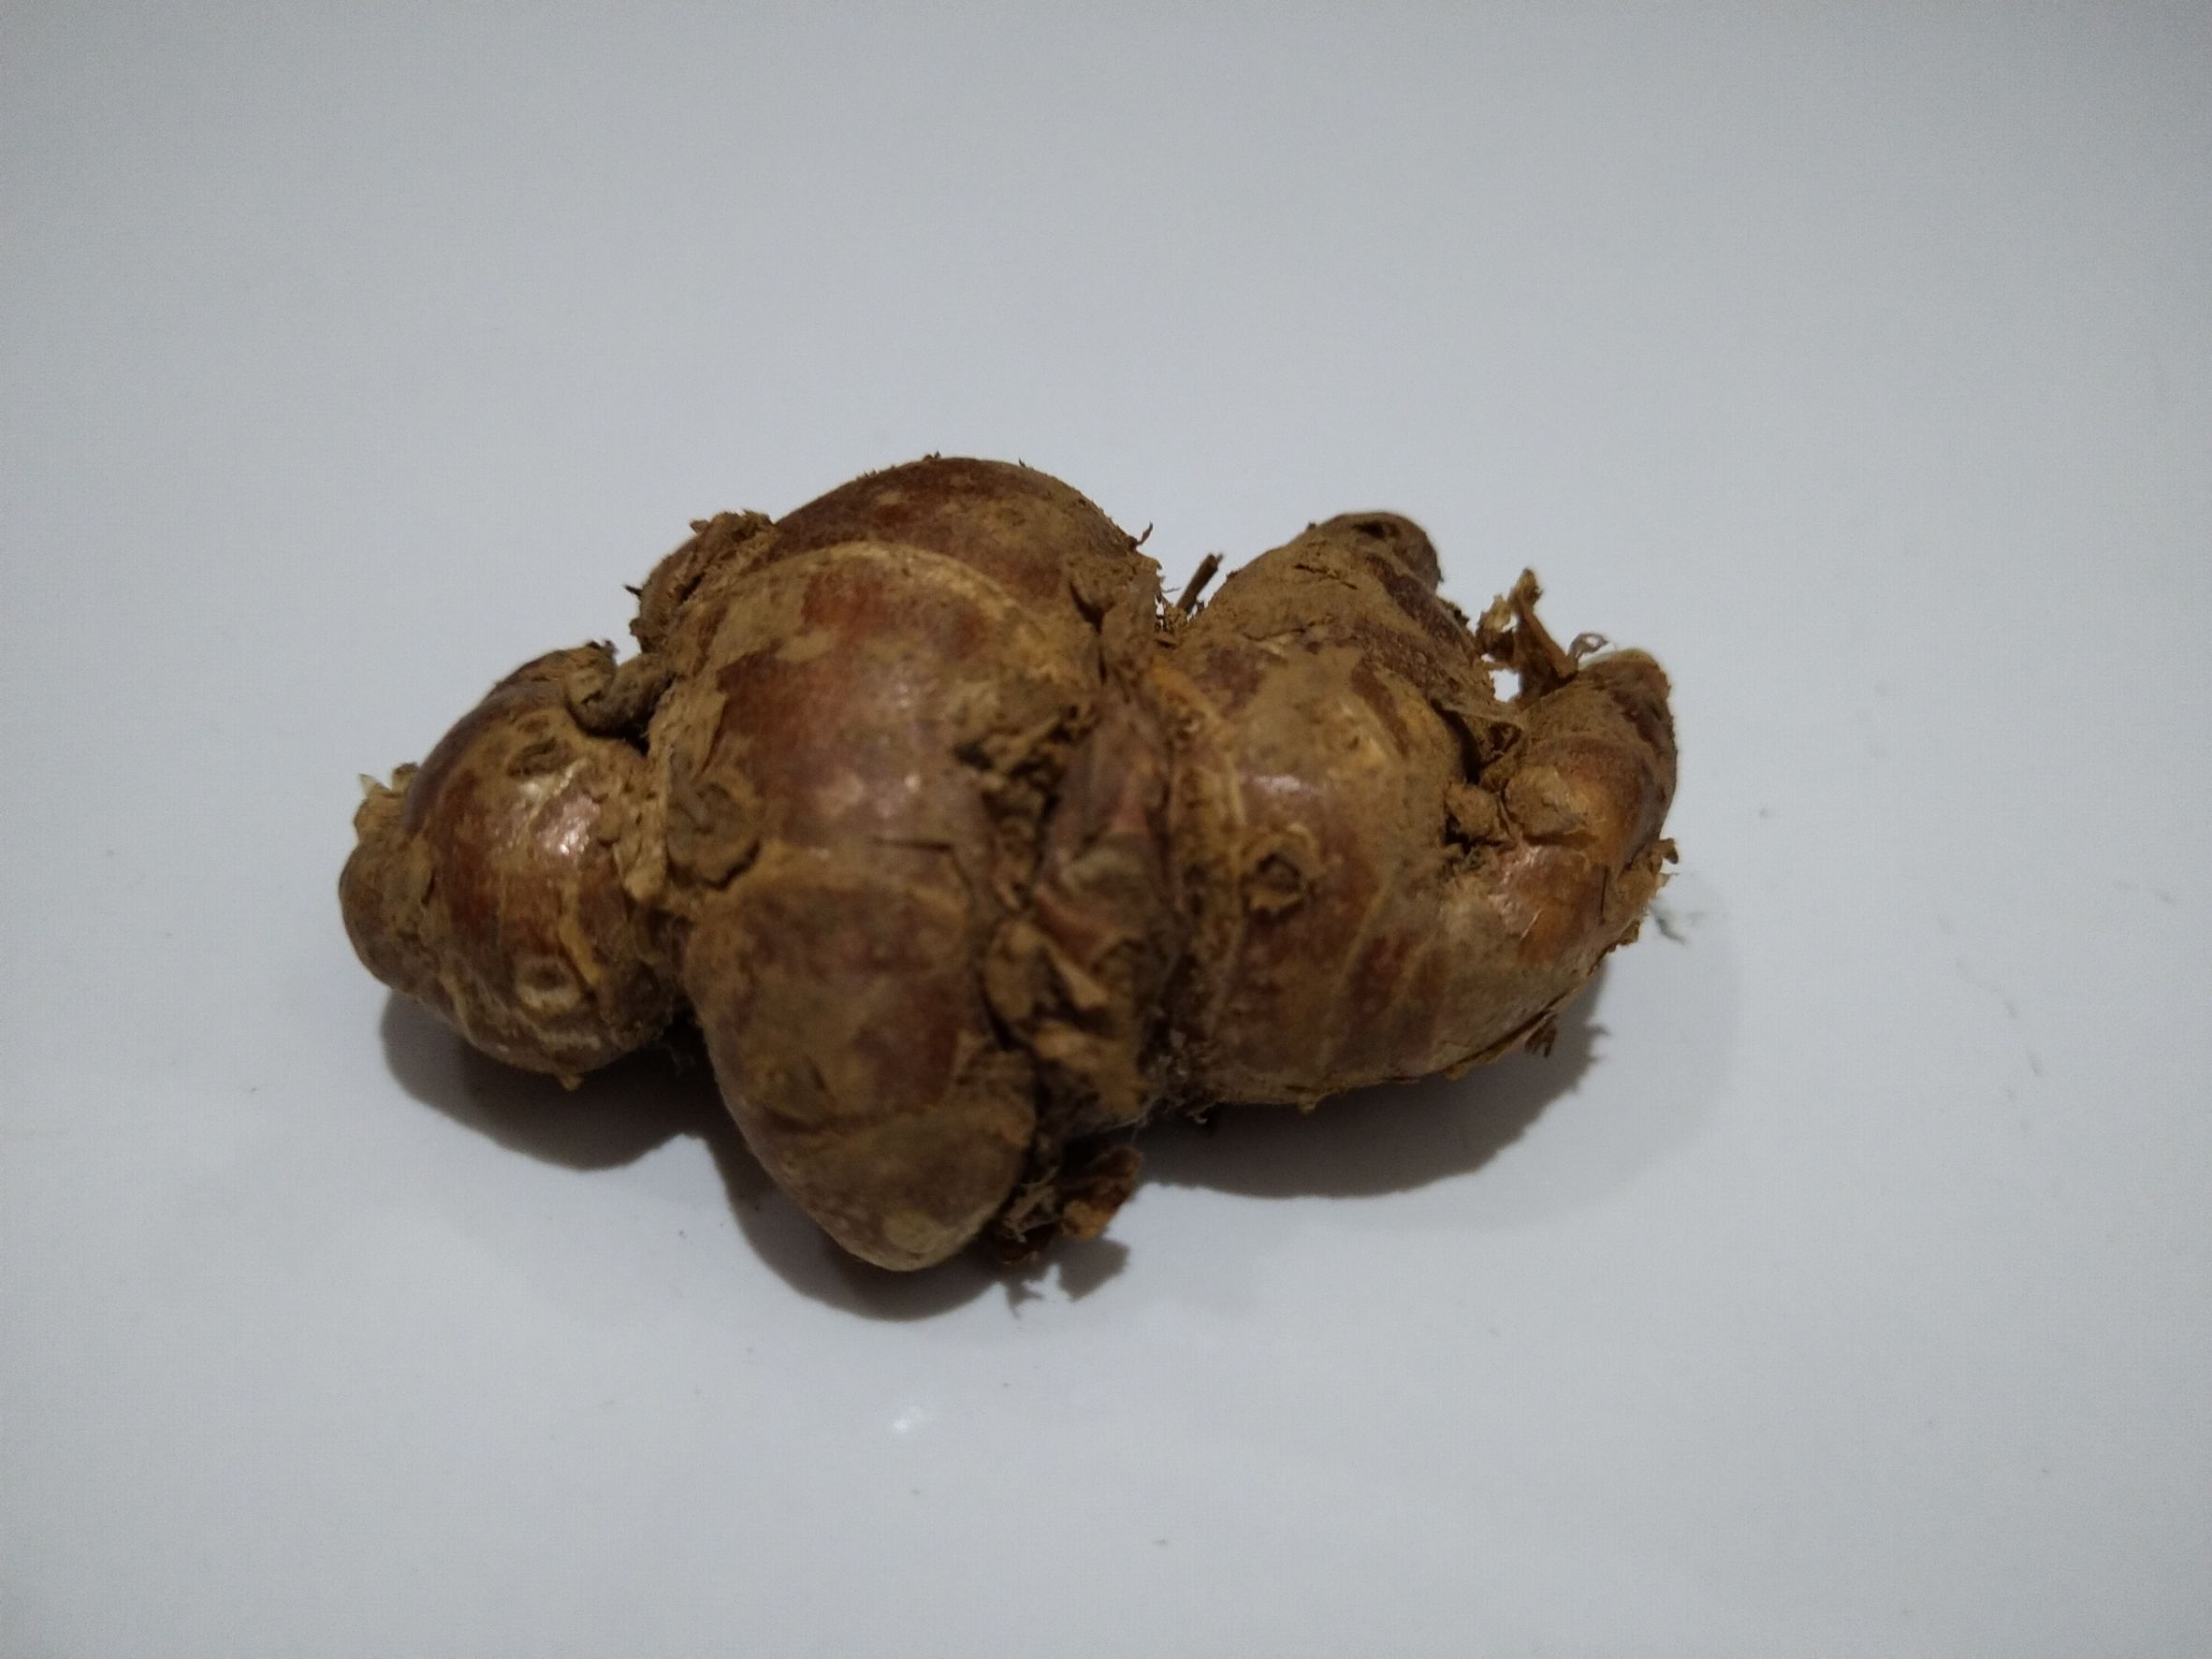Kencur: (338, 464, 1679, 1309)
